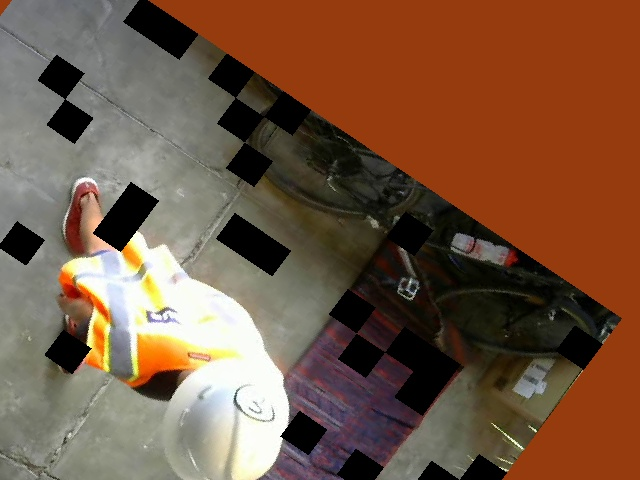three: (228, 377, 286, 429)
